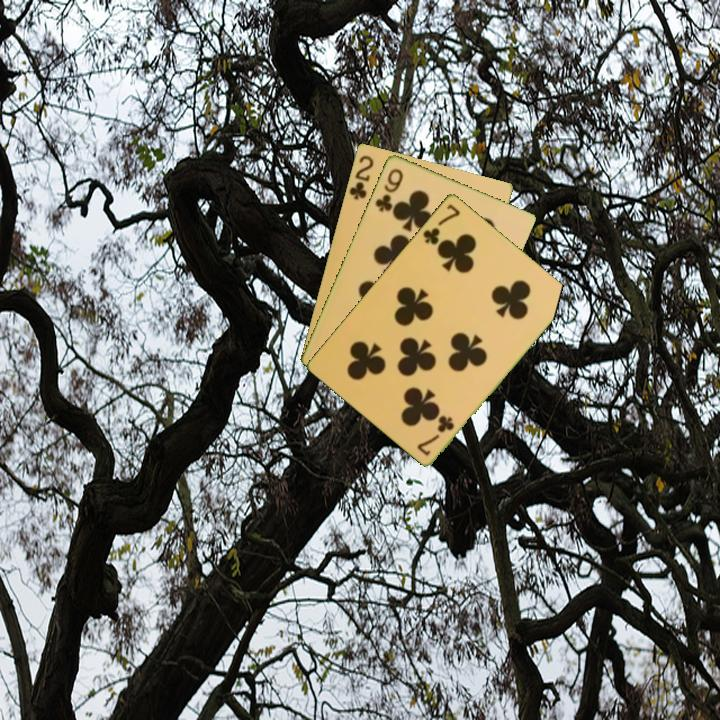2c: (345, 152, 376, 202)
7c: (419, 200, 463, 247), (413, 411, 457, 458)
9c: (371, 164, 406, 214)
